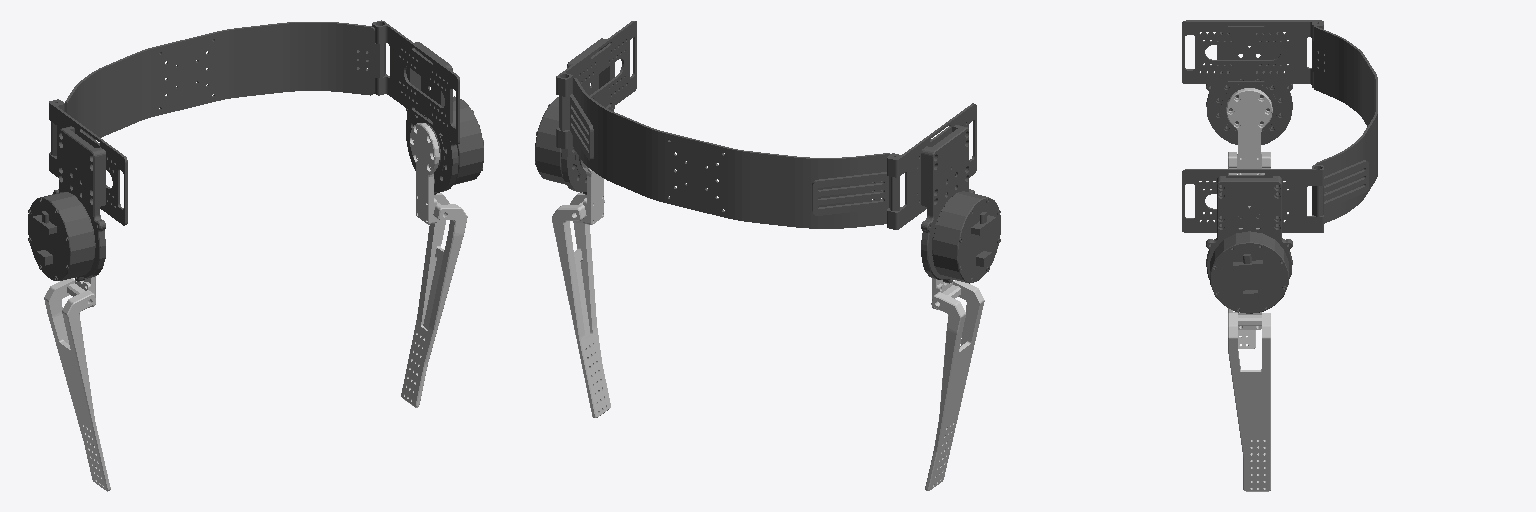
The robot description file, URDF, robot "wearable":
<?xml version="1.0" ?>
<robot name="wearable" xmlns:xacro="http://ros.org/wiki/xacro">
	<link name="world"/>
	<joint name="world_joint" type="fixed">
		<parent link="world"/>
		<child link="base_link"/>
		<origin rpy="0.0 0.0 0.0" xyz="0 0 0.5"/>
	</joint>
<link name="base_link">
		<visual>
		<origin rpy="0 0 0" xyz="0 0 0"/>
		<geometry>
		<mesh filename="meshes/base_link.stl"/>
		</geometry>
  <material name="black">
    <color rgba="0.4 0.4 0.4 1.0"/>
  </material>
		</visual>
		<collision>
		<origin rpy="0 0 0" xyz="0 0 0"/>
		<geometry>
		<mesh filename="meshes/base_link.stl"/>
		</geometry>
		</collision>
		<inertial>
		<origin rpy="0 0 0" xyz="0 0 0"/>
		<mass value="0.705"/>
		  <inertia  ixx="0.0006111993117592239" ixy="0" ixz="0" iyy="0.000993951145190498" iyz="0" izz="0.0006111993117592239" />
		</inertial>
	</link>
	<joint name="joint1" type="revolute">
		<parent link="base_link"/>
		<child link="link1"/>
		<origin rpy="0.0 0.0 0.0" xyz="0.20956 -0.1476 -0.075093"/>
		<axis xyz="1 0 0"/>
               <limit effort="10" lower="-3.05432619099" upper="3.05432619099" velocity="1"/>
	</joint>
<link name="link1">
		<visual>
		<origin rpy="0 0 0" xyz="0 0 0"/>
		<geometry>
		<mesh filename="meshes/link1.stl"/>
		</geometry>
  <material name="gray">
    <color rgba="0.8 0.8 0.8 1.0"/>
  </material>
		</visual>
		<collision>
		<origin rpy="0 0 0" xyz="0 0 0"/>
		<geometry>
		<mesh filename="meshes/link1.stl"/>
		</geometry>
		</collision>
		<inertial>
		<origin rpy="0 0 0" xyz="0 0 0"/>
		<mass value="0.705"/>
		  <inertia  ixx="0.0006111993117592239" ixy="0" ixz="0" iyy="0.000993951145190498" iyz="0" izz="0.0006111993117592239" />
		</inertial>
	</link>
<link name="link2">
		<visual>
		<origin rpy="0 0 0" xyz="0 0 0"/>
		<geometry>
		<mesh filename="meshes/link1.stl"/>
		</geometry>
  <material name="gray">
    <color rgba="0.8 0.8 0.8 1.0"/>
  </material>
		</visual>
		<collision>
		<origin rpy="0 0 0" xyz="0 0 0"/>
		<geometry>
		<mesh filename="meshes/link1.stl"/>
		</geometry>
		</collision>
		<inertial>
		<origin rpy="0 0 0" xyz="0 0 0"/>
		<mass value="0.705"/>
		  <inertia  ixx="0.0006111993117592239" ixy="0" ixz="0" iyy="0.000993951145190498" iyz="0" izz="0.0006111993117592239" />
		</inertial>
	</link>
	<joint name="joint2" type="revolute">
		<parent link="base_link"/>
		<child link="link2"/>
		<origin rpy="0.0 0.0 3.141592" xyz="-0.20956 -0.1476 -0.075093"/>
		<axis xyz="1 0 0"/>
               <limit effort="10" lower="-3.05432619099" upper="3.05432619099" velocity="1"/>
	</joint>	
</robot>

--- Facts derived from the render (not from the file) ---
Views: 3 orthographic renders of the robot side by side, from view 1: azimuth 30°, elevation 25°; view 2: azimuth 150°, elevation 25°; view 3: azimuth 270°, elevation 25°.
Model wearable with 4 links and 3 joints (2 revolute, 1 fixed), rooted at world, posed all joints at 0.
Links seen in each view (by area): view 1: base_link, link1, link2; view 2: base_link, link1, link2; view 3: base_link, link1, link2.
Link boxes in pixels (bbox=[...]): base_link: bbox=[28, 20, 483, 281]; link1: bbox=[401, 123, 467, 407]; link2: bbox=[44, 276, 110, 491]; base_link: bbox=[535, 21, 1000, 283]; link1: bbox=[552, 160, 610, 417]; link2: bbox=[925, 278, 984, 490]; base_link: bbox=[1182, 20, 1377, 313]; link1: bbox=[1228, 312, 1270, 491]; link2: bbox=[1226, 88, 1272, 348].
Bounding box of the posed robot: 0.5273 × 0.2275 × 0.4143 m (x, y, z).
Meshes: 2 distinct files referenced, 3 mesh visuals loaded (2 binary STL).